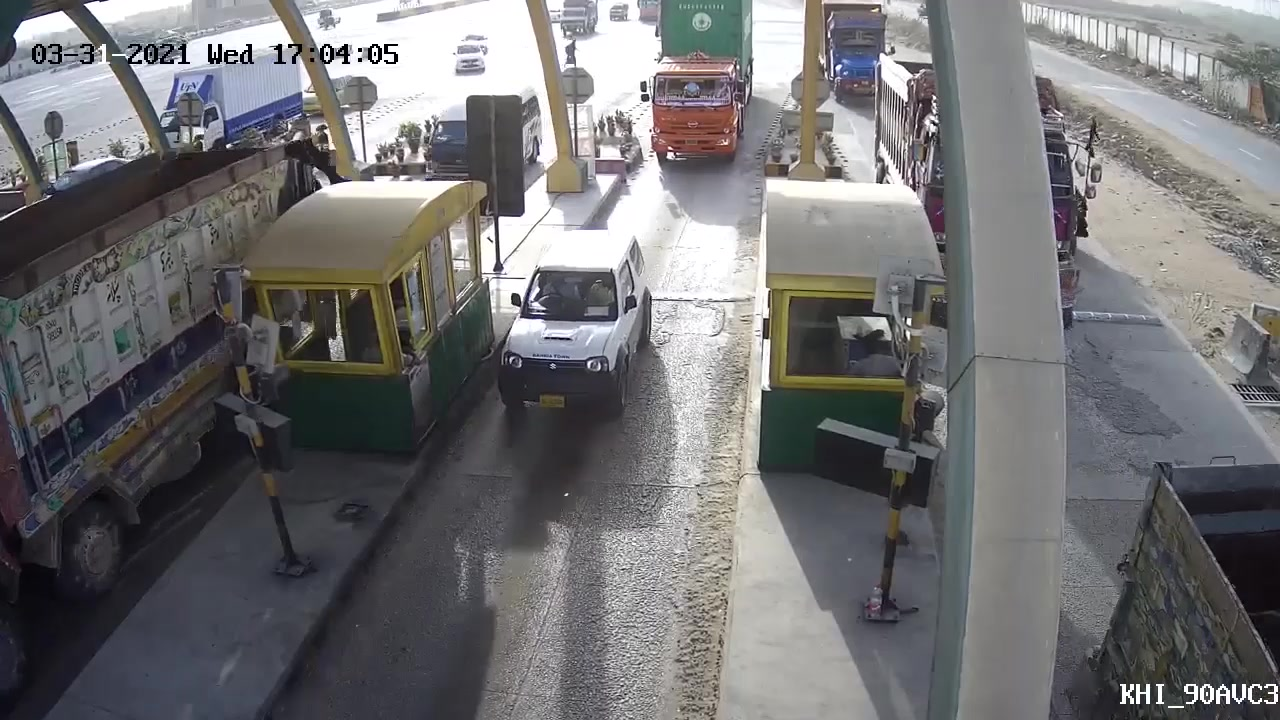F1: (492, 226, 664, 413)
